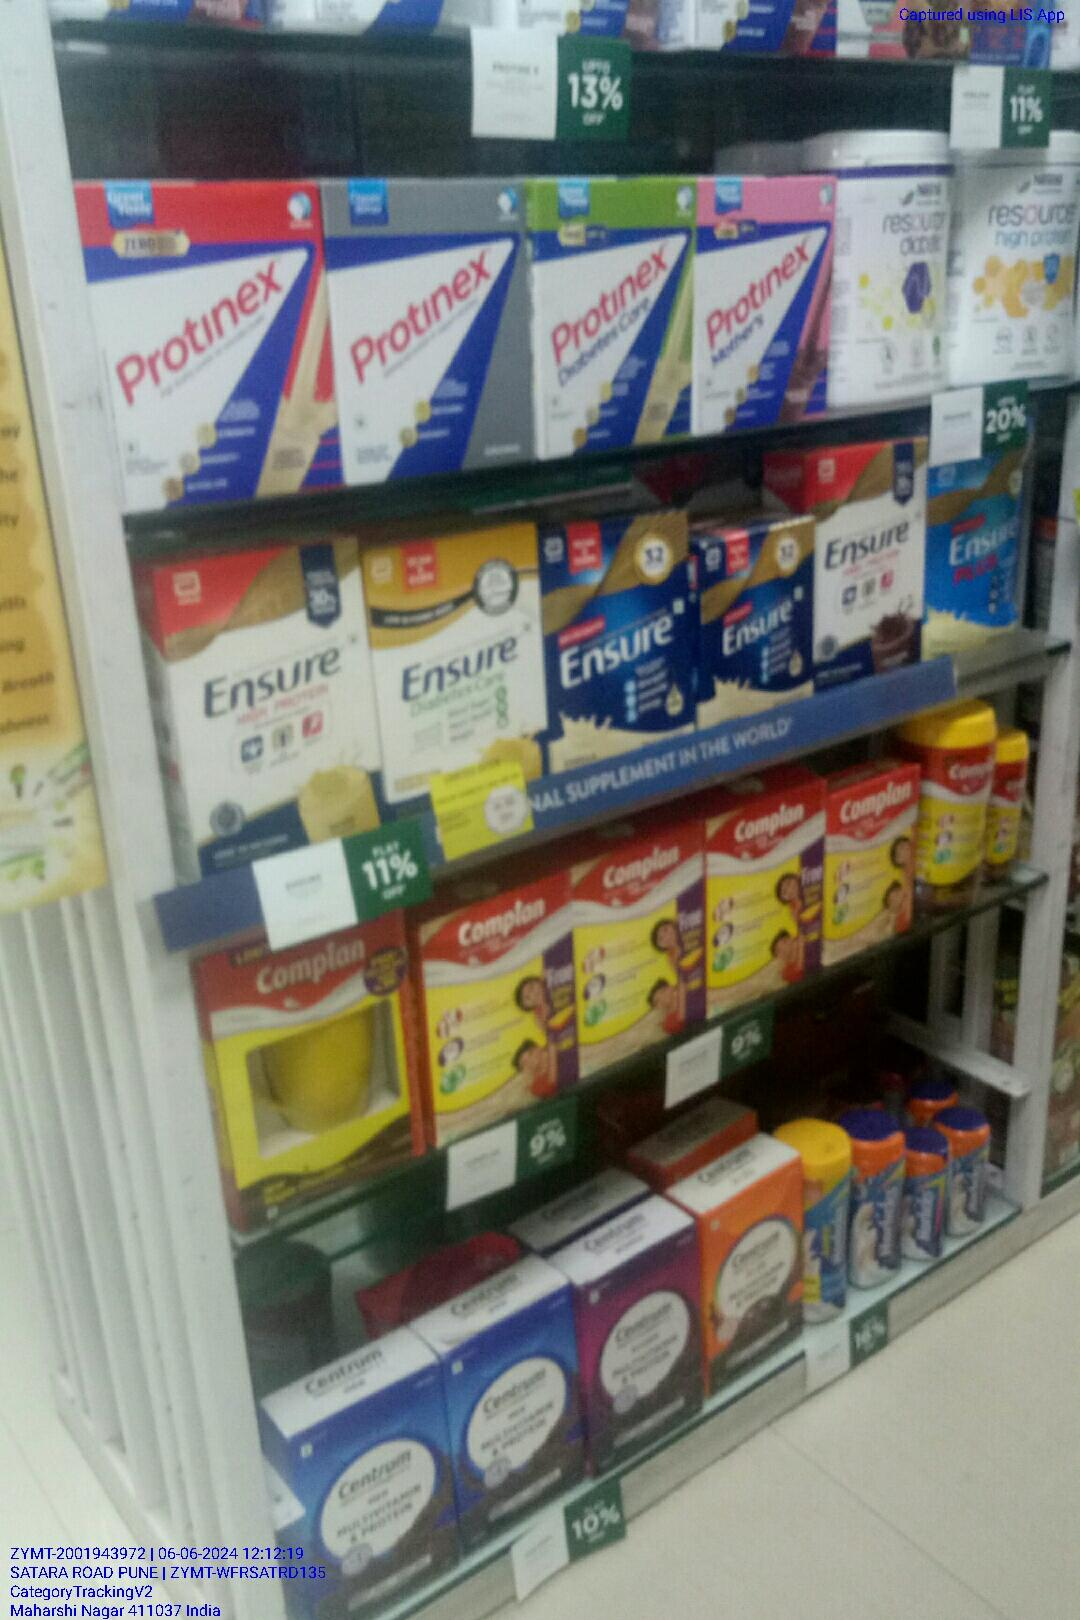COMPLAN_CHOCOLATE_200_GMS_JAR: (992, 733, 1033, 882)
COMPLAN_CHOCOLATE_500_GMS_JAR: (921, 718, 990, 917)
COMPLAN_KESAR_BADAM_200_GMS_PACK: (828, 788, 915, 968)
ENSURE_VANILLA_400_G_PACK: (546, 524, 688, 763)
HORLICKS_JUNIOR_VANILLA_500_GM_JAR: (802, 1150, 851, 1330)
HORLICK_CLASSIC_MALT_200_G_JAR: (906, 1140, 951, 1272), (956, 1115, 999, 1243)
